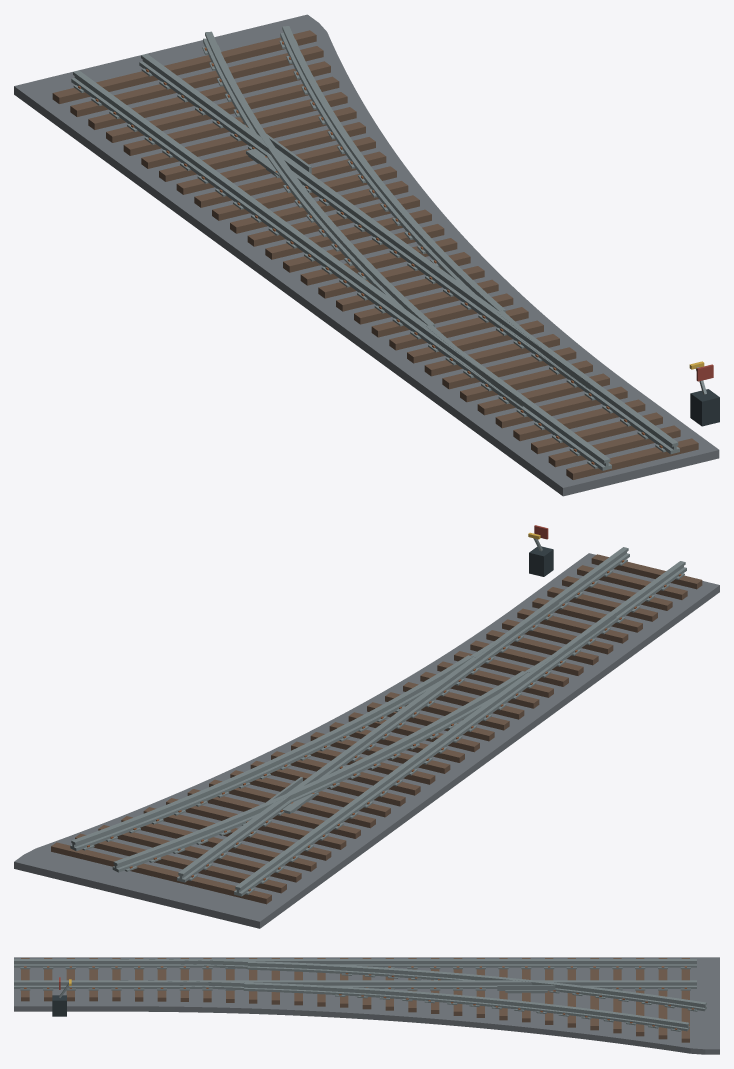
The model's file is DeadRail_TrackTurnout_Right.fbx.
3 renders of one model, top to bottom at view 1: azimuth 30°, elevation 25°; view 2: azimuth 150°, elevation 25°; view 3: azimuth 270°, elevation 25°, orthographic. The views are drawn at different scales.
Visible parts, largest first — view 1: TrackTurnout_Right_Mesh.002, TrackTurnout_Right_SwitchBlades_Mesh.002, Switch_Lever_Base.004; view 2: TrackTurnout_Right_Mesh.002, TrackTurnout_Right_SwitchBlades_Mesh.002, Switch_Lever_Base.004; view 3: TrackTurnout_Right_Mesh.002, TrackTurnout_Right_SwitchBlades_Mesh.002, Switch_Lever_Base.004.
Boxes of the visible parts, x1,y1,x2,y2 form: TrackTurnout_Right_Mesh.002: [14, 14, 719, 496]; TrackTurnout_Right_SwitchBlades_Mesh.002: [426, 310, 590, 406]; Switch_Lever_Base.004: [690, 389, 719, 426]; TrackTurnout_Right_Mesh.002: [14, 547, 719, 928]; TrackTurnout_Right_SwitchBlades_Mesh.002: [470, 598, 616, 674]; Switch_Lever_Base.004: [529, 546, 553, 576]; TrackTurnout_Right_Mesh.002: [14, 957, 719, 1054]; TrackTurnout_Right_SwitchBlades_Mesh.002: [120, 959, 247, 990]; Switch_Lever_Base.004: [52, 995, 66, 1016].
Size of the model in its own units: 6.19 by 1.22 by 20.07.
